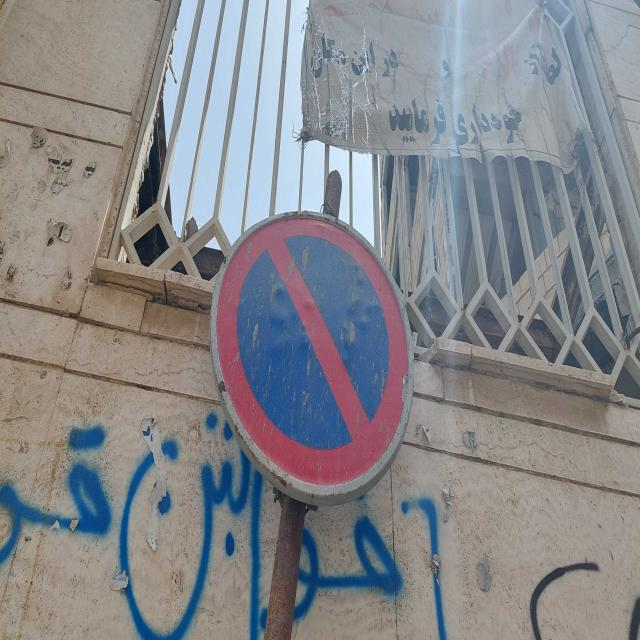forb_stopping: (210, 208, 415, 503)
